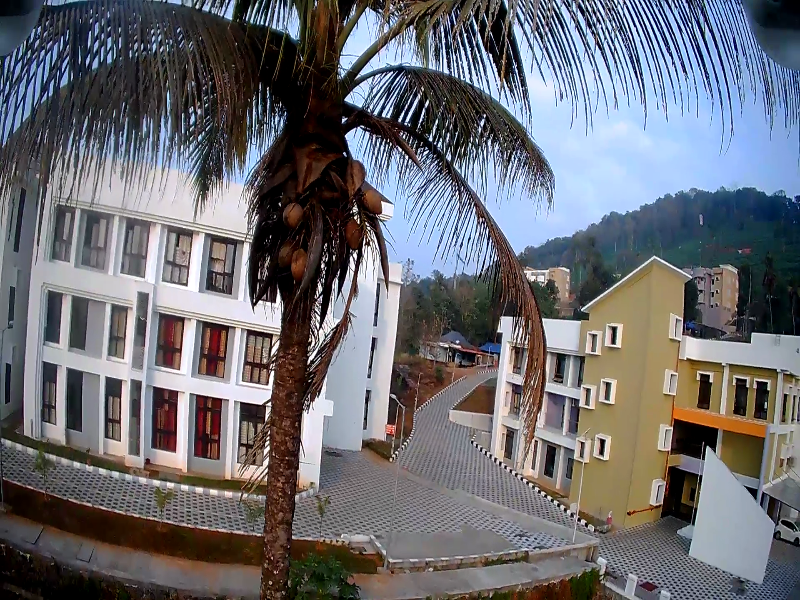coconut: (363, 191, 384, 219), (288, 247, 304, 280), (346, 219, 359, 247), (284, 203, 300, 225), (277, 242, 293, 259)
